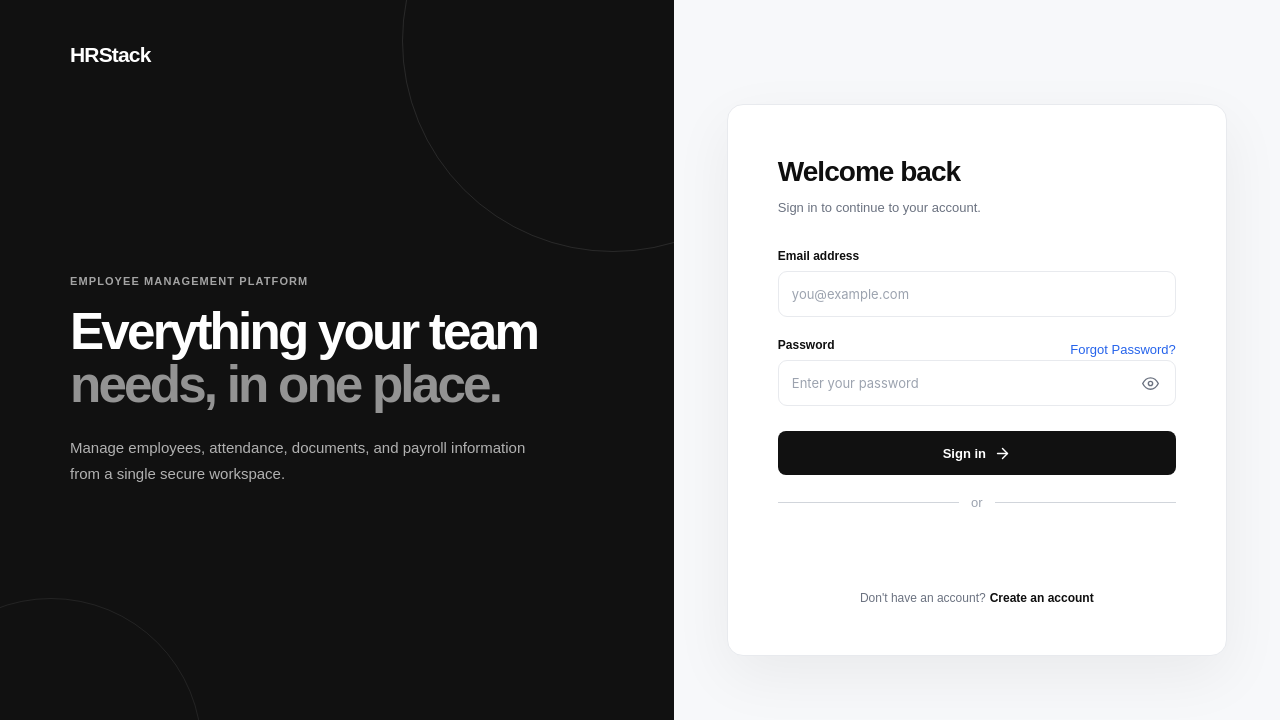
Scenario: Login page › shows an error toast on wrong credentials and does not store a token
The image size is (1280, 720).
In the field labelled "Email address": (977, 294) [778,271,1176,317], type "wrong@example.com"
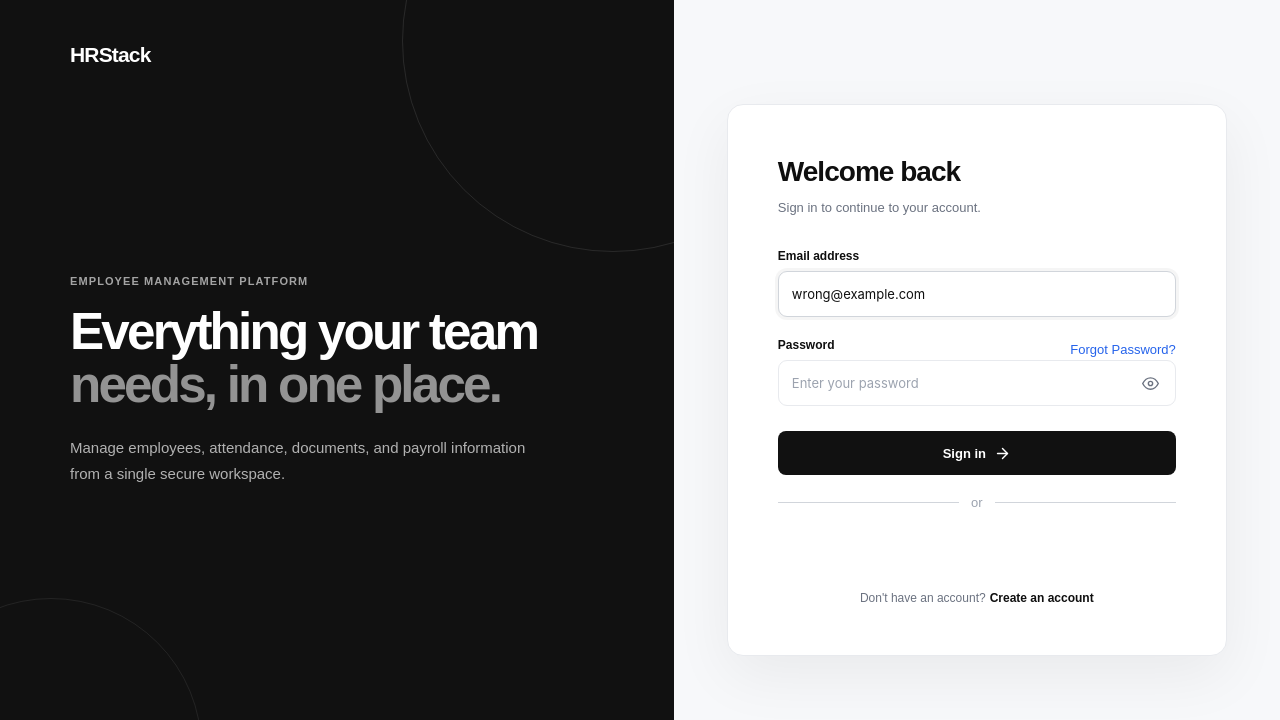
In the password field labelled "Password": (977, 383) [778,360,1176,406], type "wrong-password"
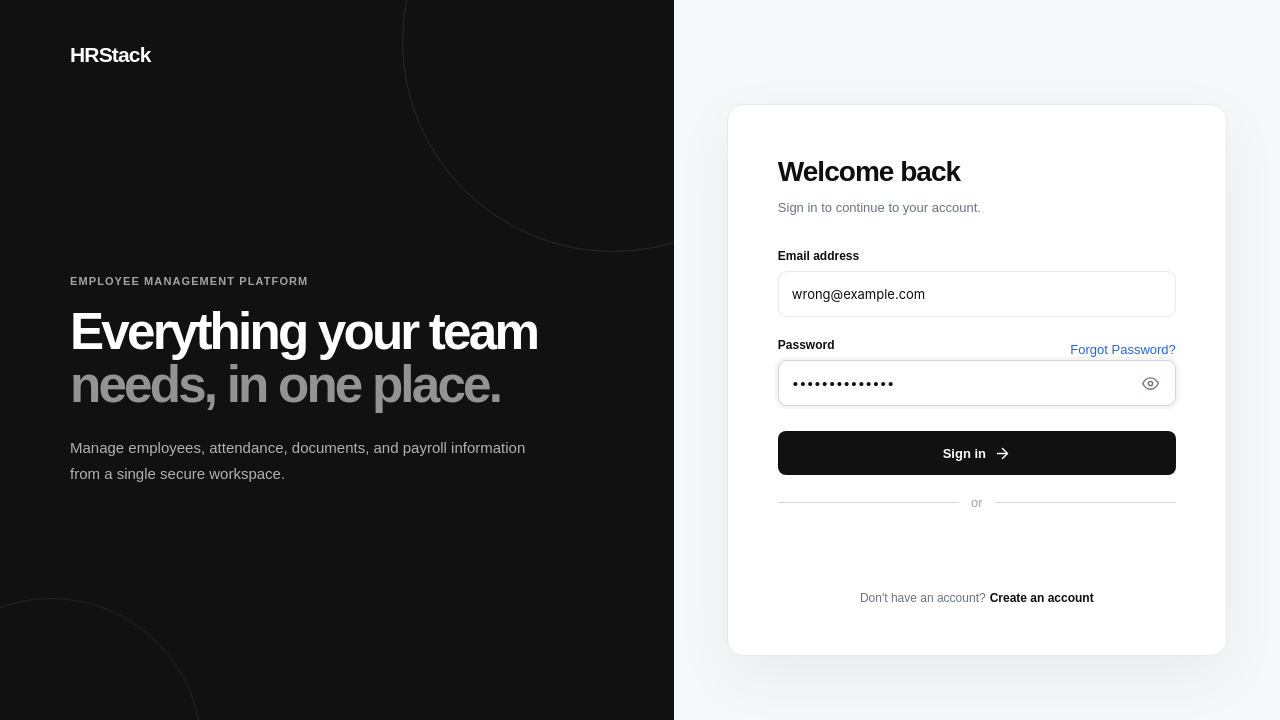
Click the button "Sign in": (977, 453) [778,431,1176,475]
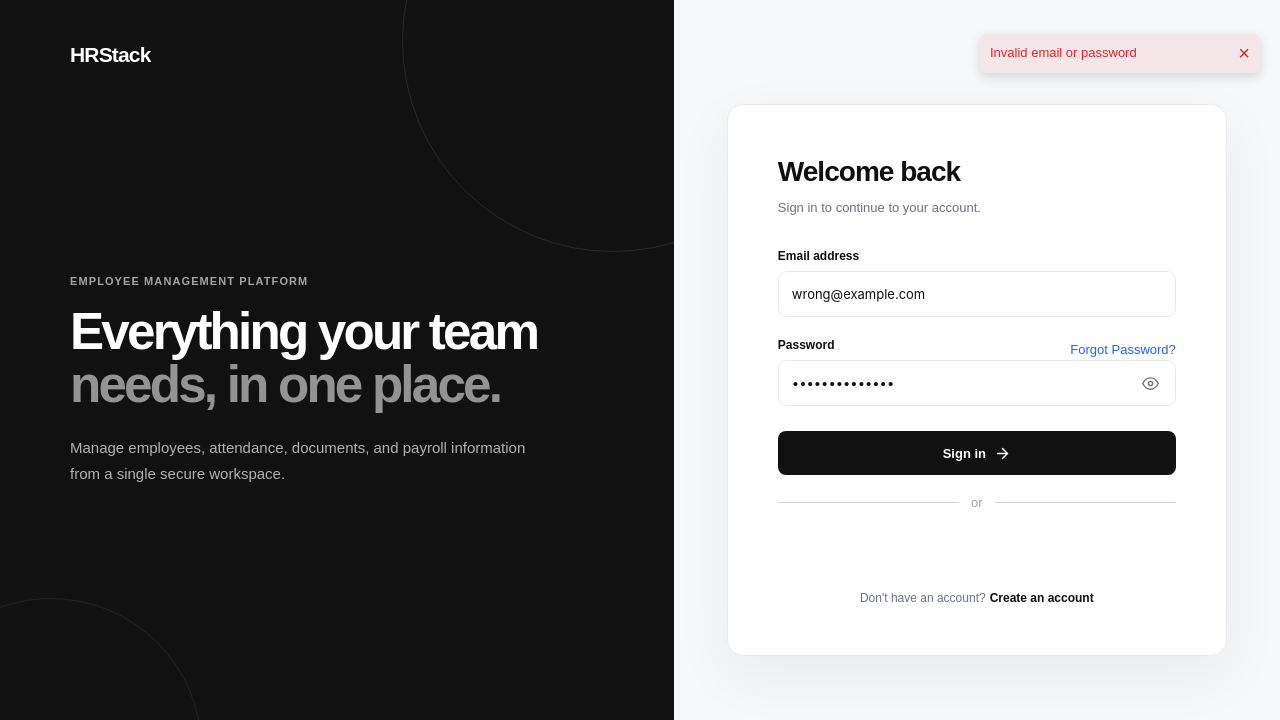
Check: the message shows "Invalid email or password", box [990,45,1137,60]
